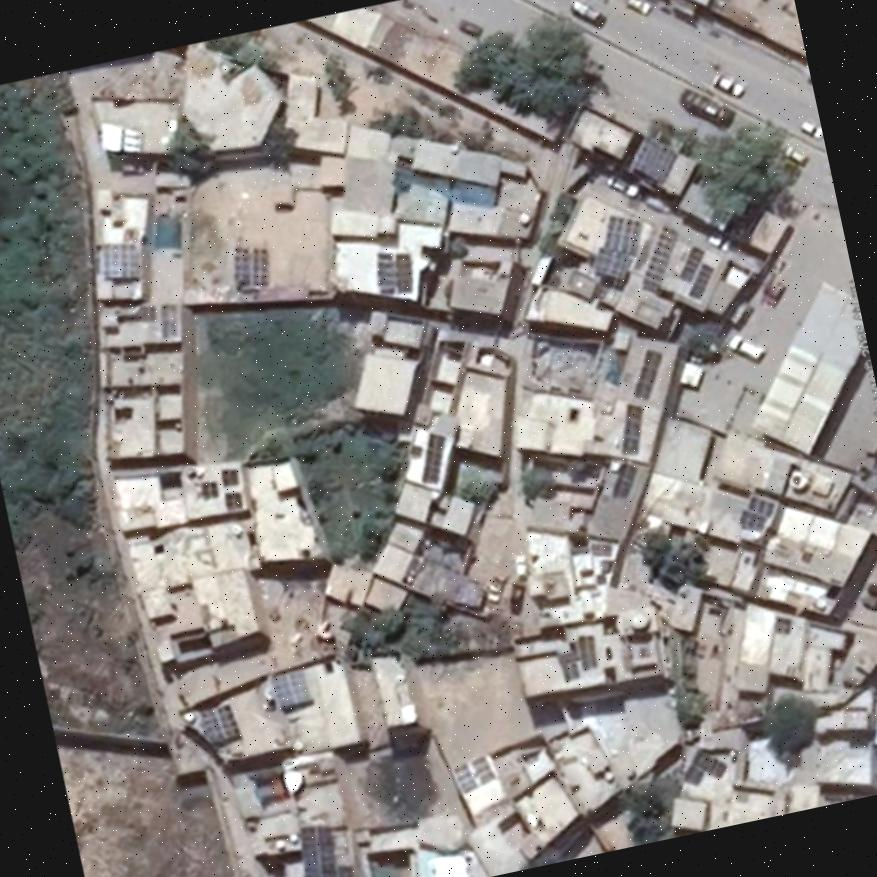Solarpanel: (592, 213, 645, 279), (298, 826, 353, 877), (642, 225, 678, 291), (634, 133, 679, 184), (270, 668, 309, 711), (198, 704, 236, 746), (234, 245, 268, 289), (633, 347, 660, 399), (99, 242, 138, 277), (740, 494, 773, 530), (377, 251, 408, 289), (423, 430, 445, 481), (688, 264, 717, 300), (677, 246, 706, 280), (623, 400, 641, 452), (577, 632, 598, 669)
